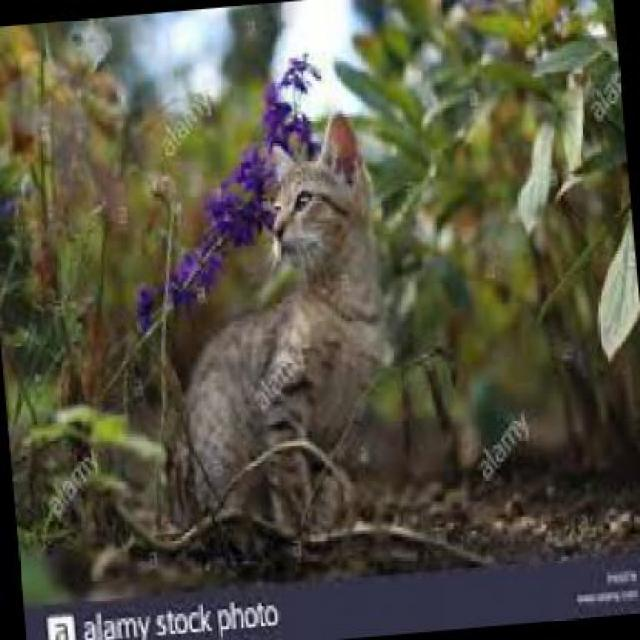animals: (136, 97, 422, 560)
